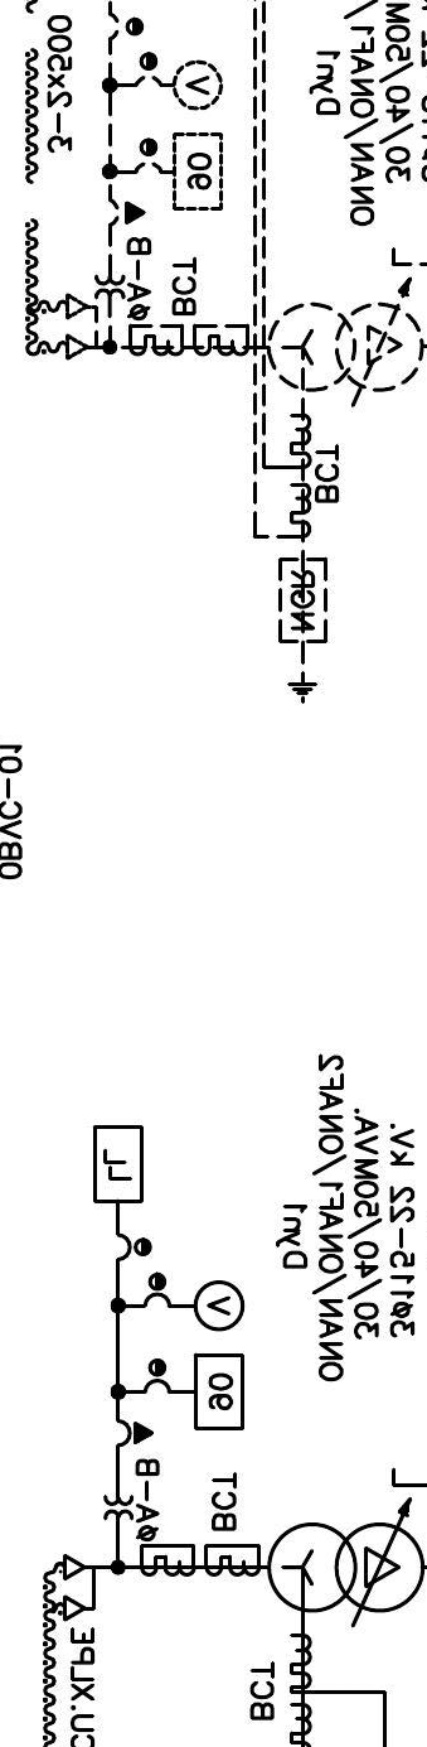11522_tx_dyn1: (266, 1521, 425, 1614)
LL: (92, 1124, 144, 1204)
terminator_double: (62, 1554, 97, 1622)
v_m: (193, 1279, 246, 1333)
